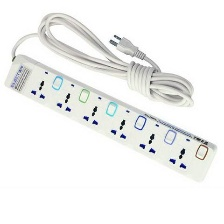three_eye_plug: (1, 52, 217, 186)
